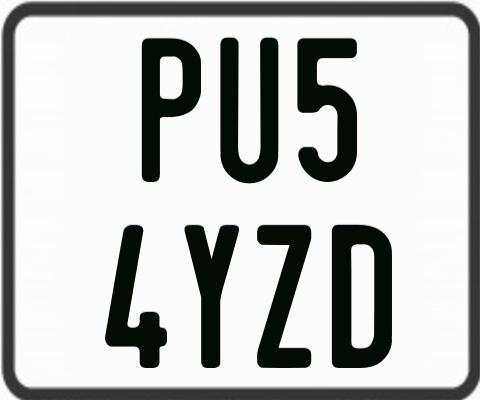4: (102, 225, 169, 372)
5: (294, 36, 358, 184)
D: (329, 224, 390, 367)
P: (141, 37, 204, 182)
U: (219, 35, 278, 180)
Y: (184, 223, 242, 369)
Z: (254, 225, 311, 371)
